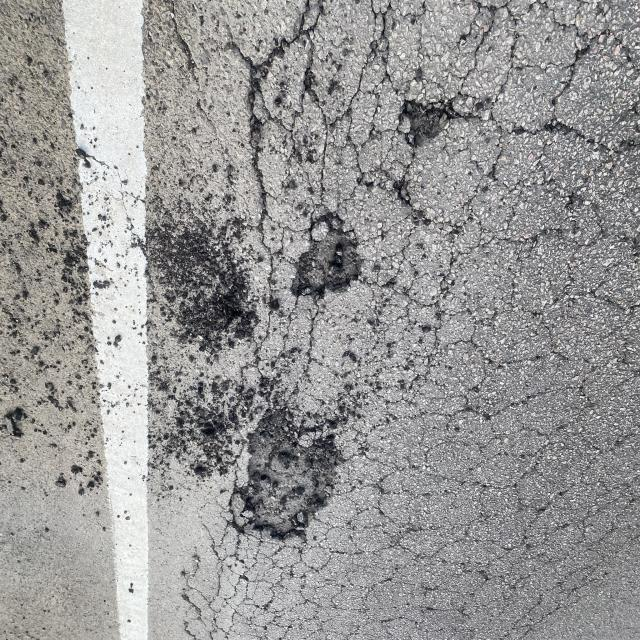Pothole: (220, 185, 373, 596)
